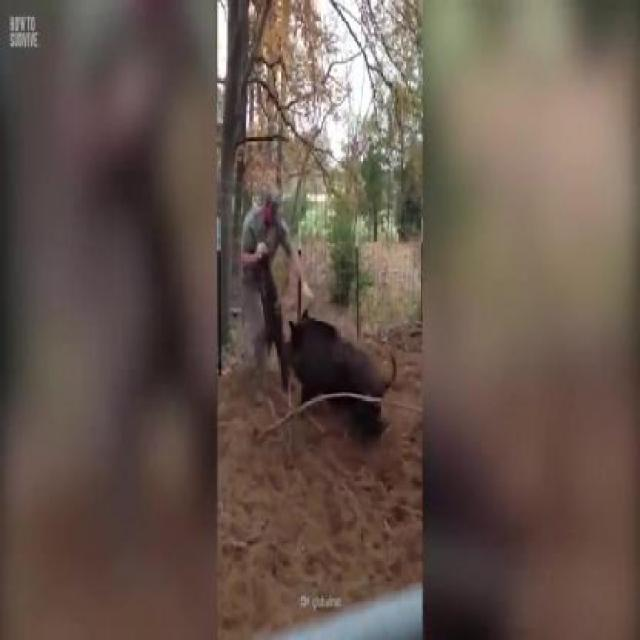pig: (278, 289, 414, 455)
